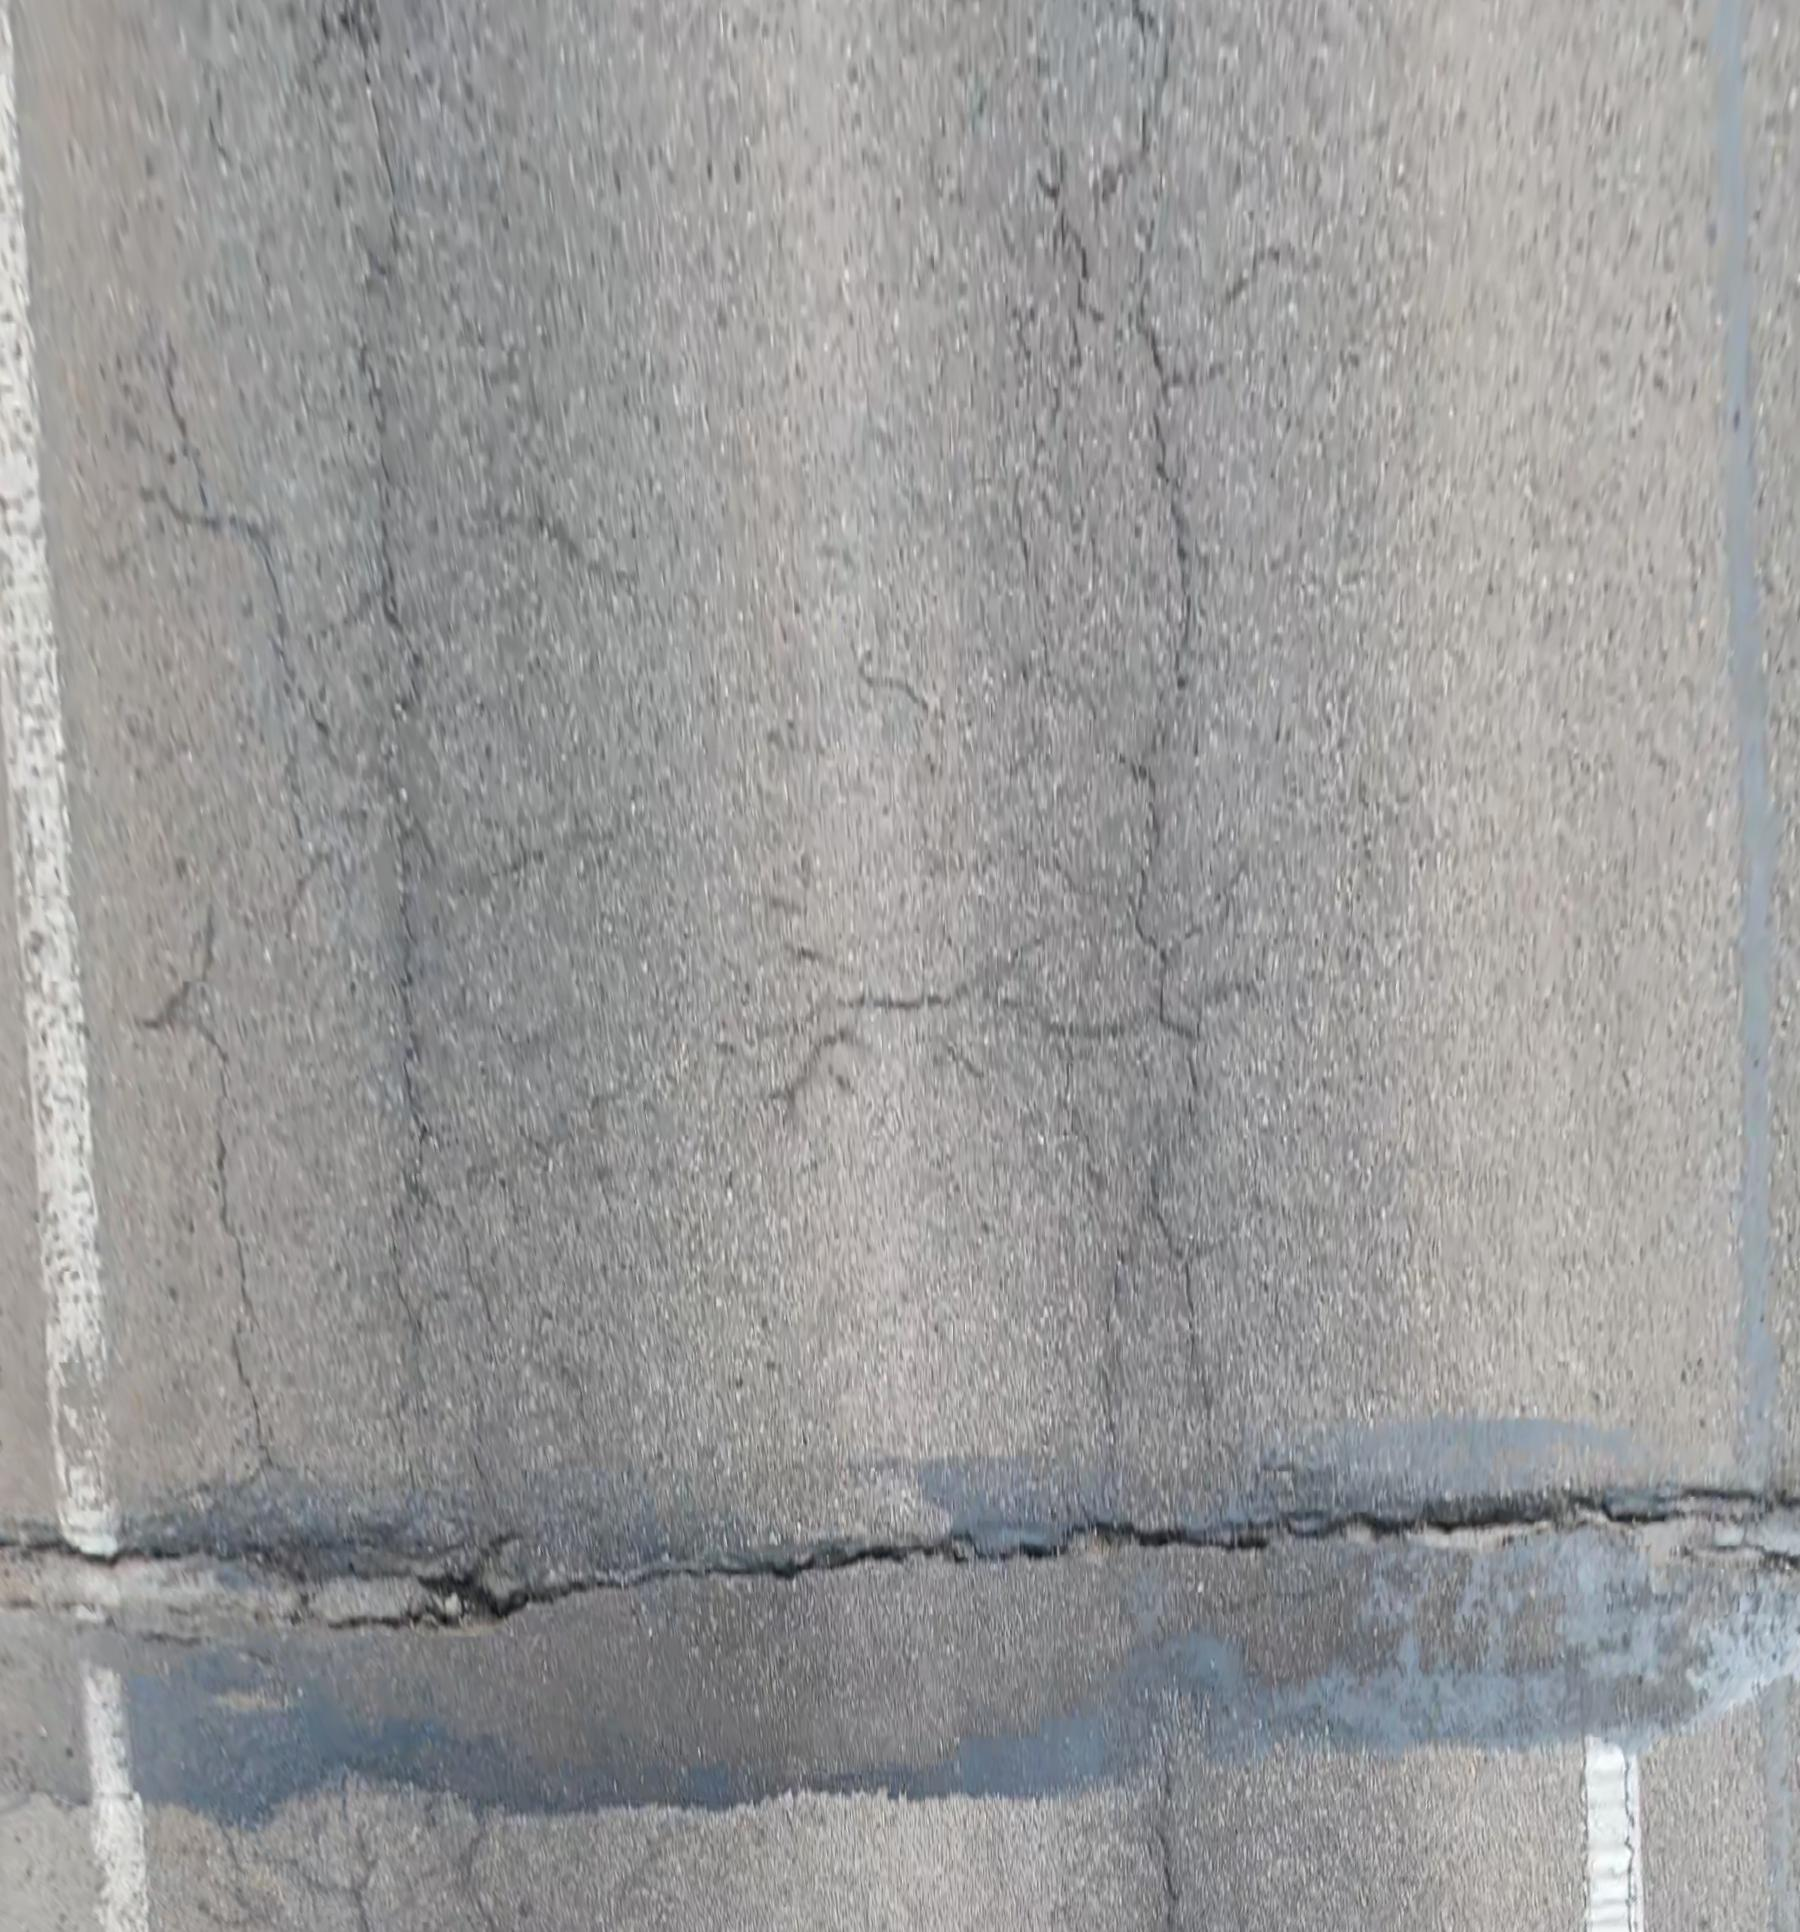pothole: (0, 1538, 509, 1634), (1607, 1487, 1800, 1573), (1347, 1496, 1594, 1555)
pothole_patch_good: (0, 1426, 1792, 1819)
